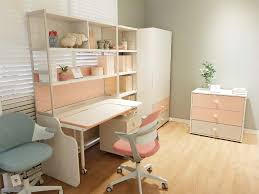Chair: (106, 106, 175, 194), (1, 110, 66, 194)
Table: (41, 93, 144, 176)
